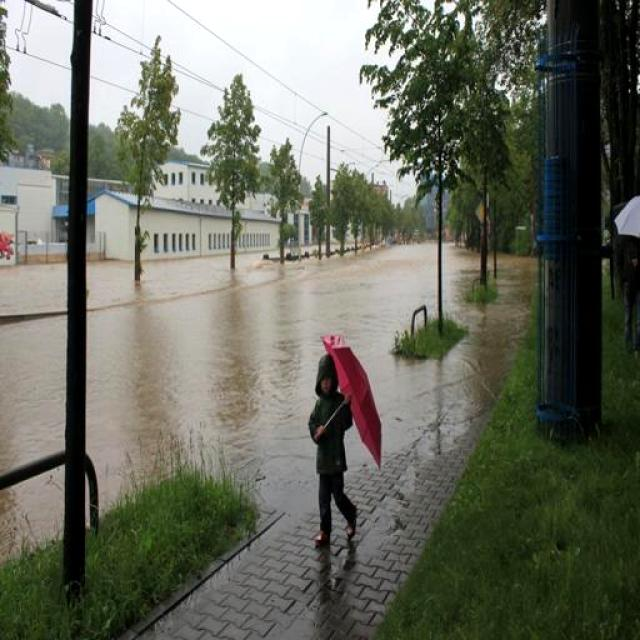civilian: (304, 342, 373, 560)
